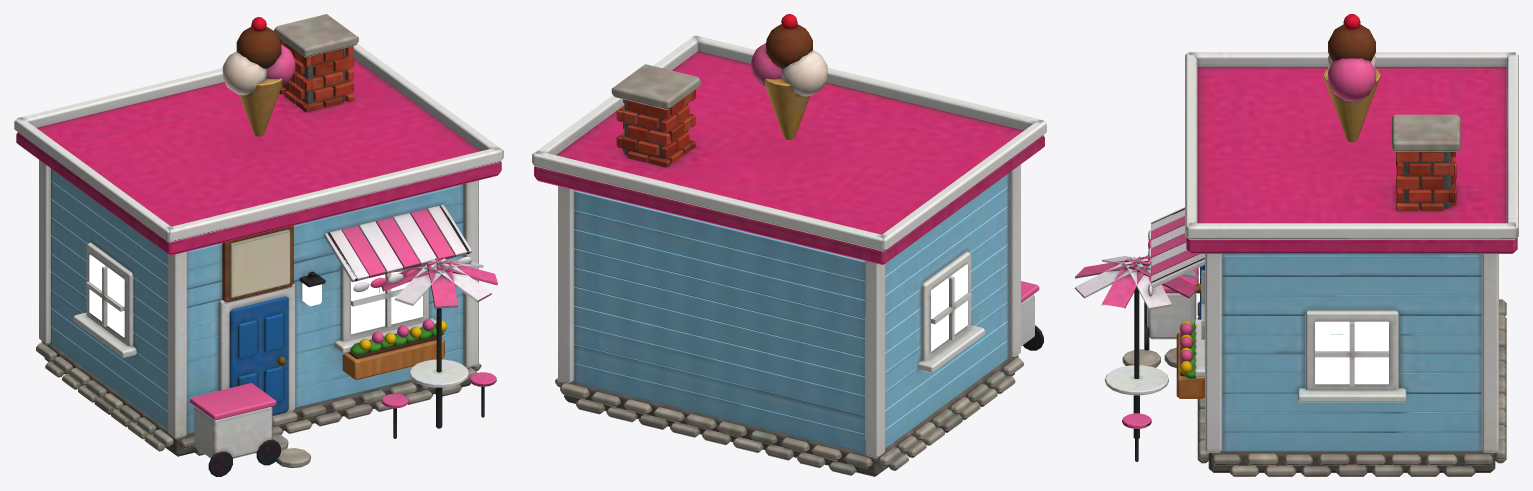
The model's file is ice_cream.glb.
3 views of the same model, side by side, from view 1: azimuth 30°, elevation 25°; view 2: azimuth 150°, elevation 25°; view 3: azimuth 270°, elevation 25° (orthographic). The views are drawn at different scales.
Visible parts, largest first — view 1: ice_cream; view 2: ice_cream; view 3: ice_cream.
Part boxes in pixels (box(x1,y1,x2,y2)): ice_cream: box(14, 14, 503, 476); ice_cream: box(532, 14, 1046, 476); ice_cream: box(1075, 14, 1518, 476).
Bounding box in the file's own units: 1.69 × 1.71 × 1.8.
Materials: 1 (1 with a texture image).
